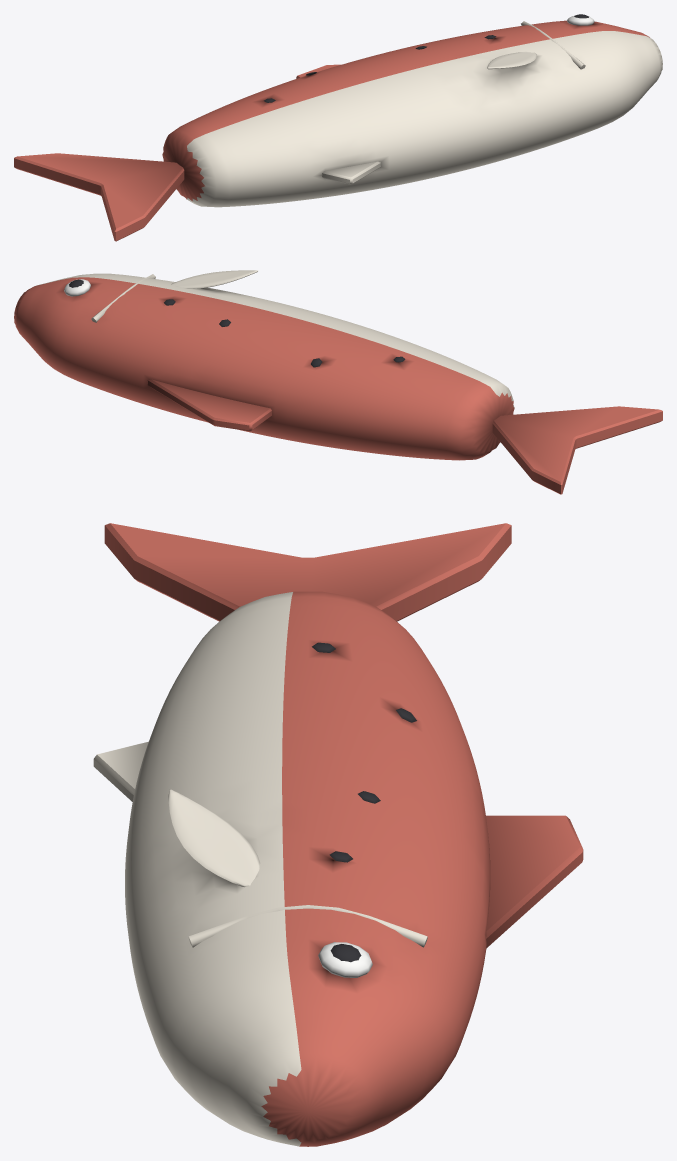
File: food_salmon.glb
The picture shows the model from 3 angles, top to bottom: view 1: azimuth 30°, elevation 25°; view 2: azimuth 150°, elevation 25°; view 3: azimuth 270°, elevation 25°; orthographic projection. The views are drawn at different scales.
Visible parts, largest first — view 1: PART; view 2: PART; view 3: PART.
Boxes of the visible parts, box(x1,y1,x2,y2) form: PART: box(14, 14, 662, 241); PART: box(14, 270, 662, 494); PART: box(93, 523, 583, 1146).
Size of the model in its own units: 0.3528 by 0.0649 by 0.1263.
